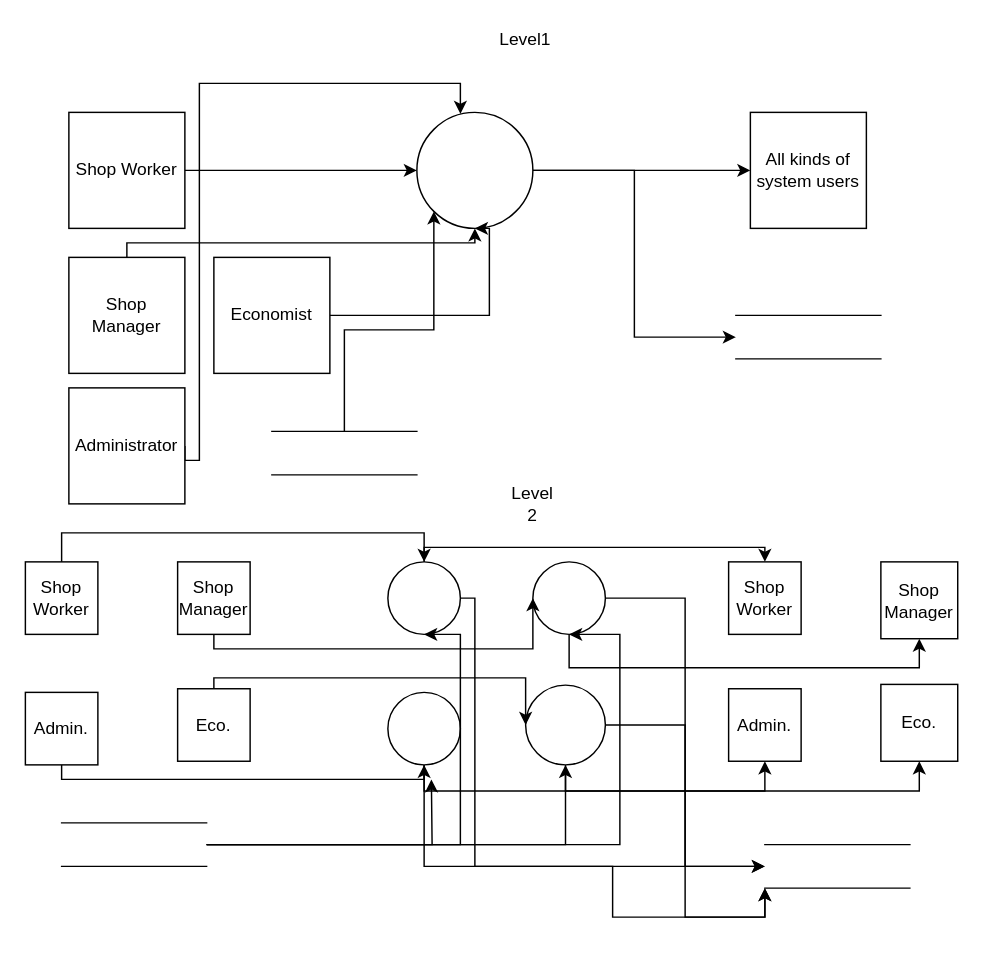
This 983x954 diagram has some shape labels left out. The shapes that lost their labels are listed below. From the top down, each one's centre as x and y in pixels, then its label:
(474,169): Processing by software
(423,597): Worker interface
(568,597): Man. Interface
(423,728): Admin. Interface
(564,724): Eco. Interface
